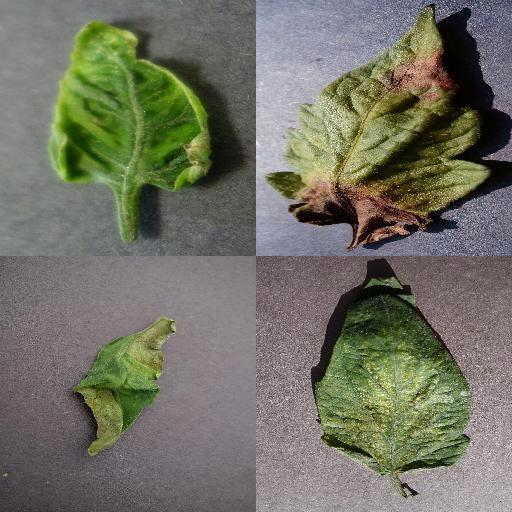Late Blight: (262, 2, 492, 248), (71, 315, 179, 459)
Spider Mites: (313, 275, 470, 475)
Yellow Leaf Curl Virus: (49, 18, 213, 194)
